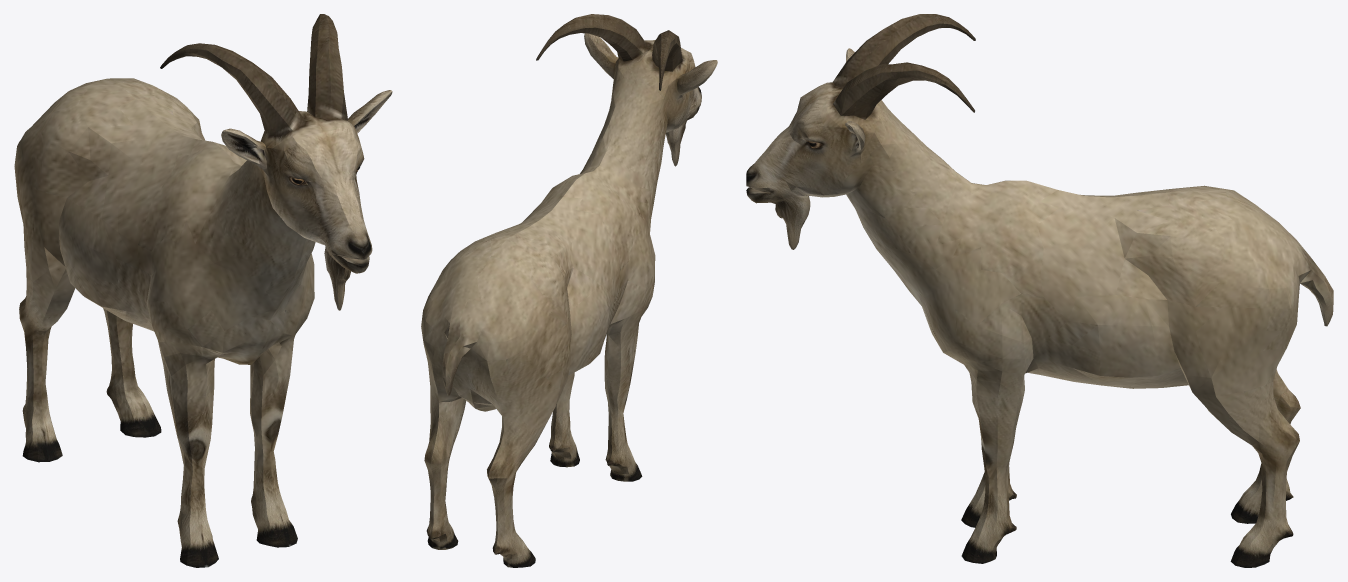
The model's file is goatnew.glb.
3 views of the same model, side by side, from view 1: azimuth 30°, elevation 25°; view 2: azimuth 150°, elevation 25°; view 3: azimuth 270°, elevation 25° (orthographic). The views are drawn at different scales.
Visible parts, largest first — view 1: mesh_0; view 2: mesh_0; view 3: mesh_0.
Part boxes in pixels (x1,y1,x2,y2): mesh_0: (14, 14, 392, 567); mesh_0: (421, 14, 717, 567); mesh_0: (746, 14, 1333, 567).
Bounding box in the file's own units: 0.307 × 0.9368 × 1.
1 material, 1 textured.
